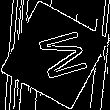M_W: (24, 26, 86, 84)
